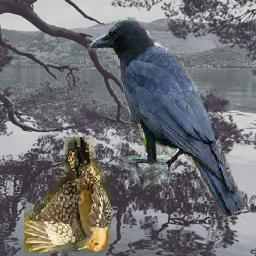Crow: (87, 17, 245, 221)
Woodpecker: (25, 137, 112, 253)
